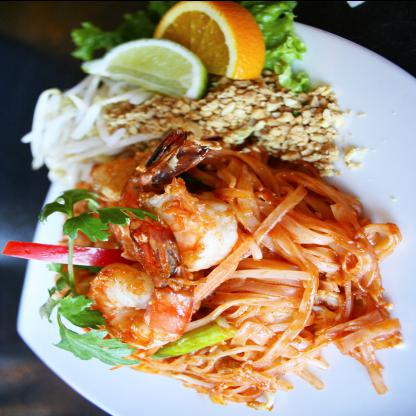Pad Thai: (34, 27, 410, 411)
